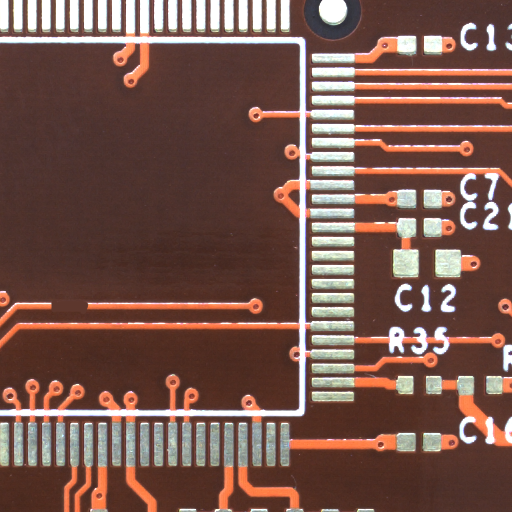Open_circuit: (69, 304, 108, 321)
